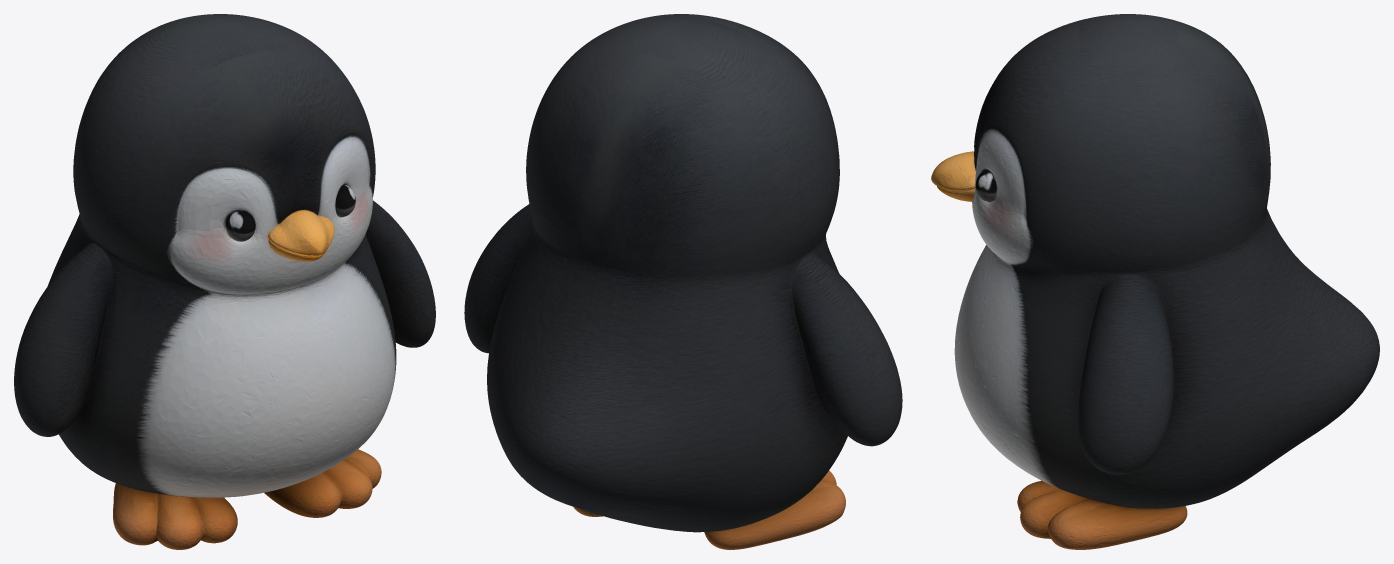
File: penguin-optimized.glb
3 views of the same model, side by side, from view 1: azimuth 30°, elevation 25°; view 2: azimuth 150°, elevation 25°; view 3: azimuth 270°, elevation 25° (orthographic). The views are drawn at different scales.
Visible parts, largest first — view 1: node_0; view 2: node_0; view 3: node_0.
Boxes of the visible parts, <box> form: node_0: <box>14,14,435,549</box>; node_0: <box>464,14,902,549</box>; node_0: <box>931,14,1379,549</box>.
Size of the model in its own units: 93.73 by 102 by 89.75.
Materials: 1 (1 with a texture image).
